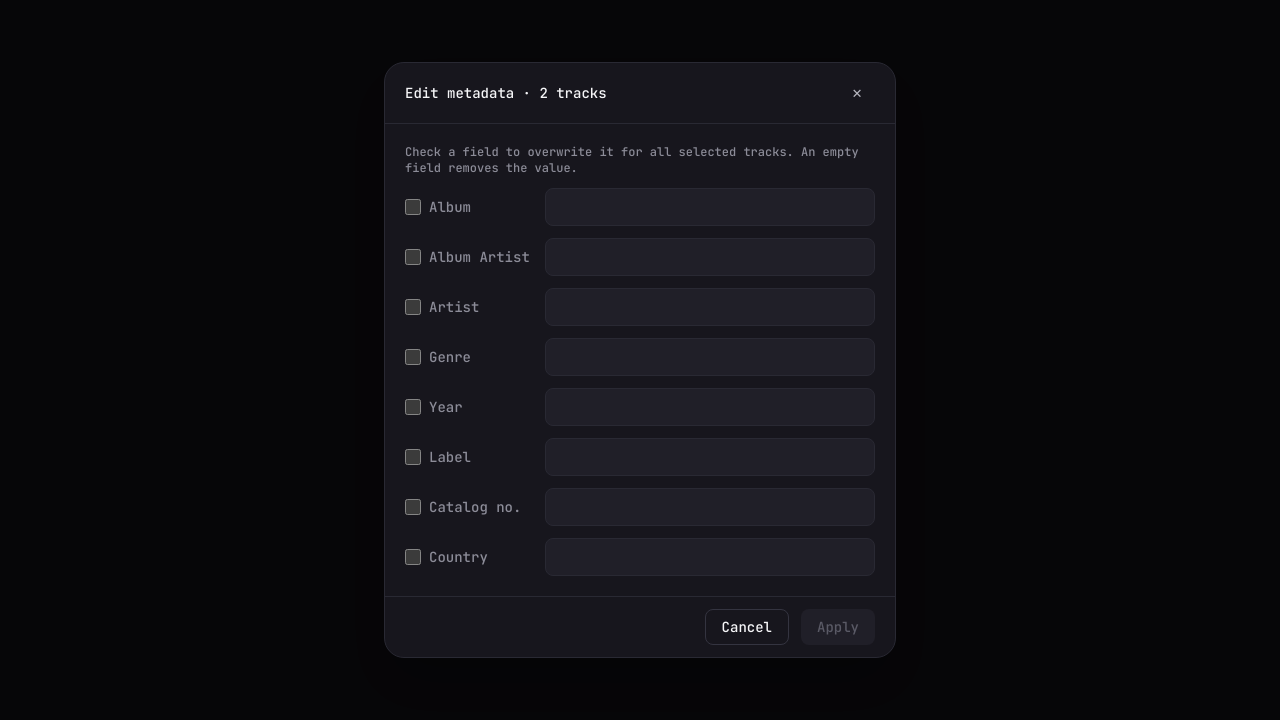
Test: BulkMetadataEditor › keeps Apply disabled until a field is enabled
expect the button "Apply" is disabled: met, box [801,609,875,645]
Click the checkbox labelled "Label". click: point(413, 457)
box: [405,449,421,465]
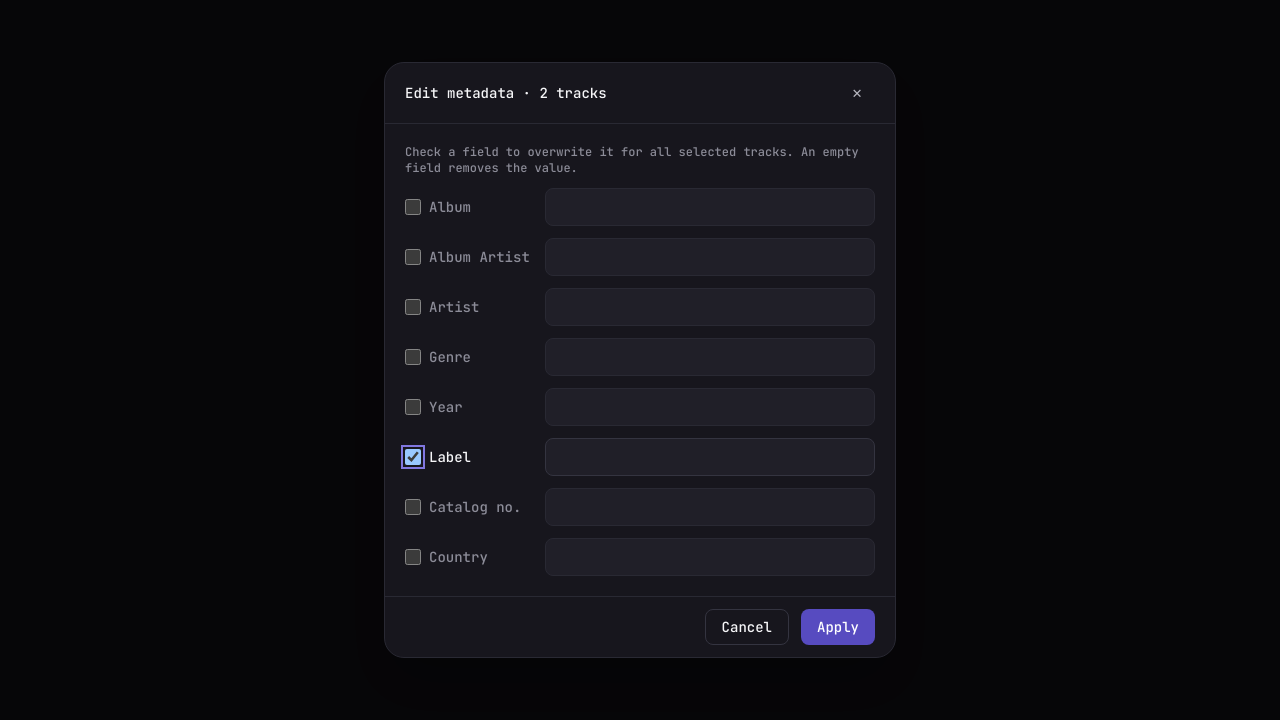
expect the button "Apply" is enabled: met, box [801,609,875,645]
